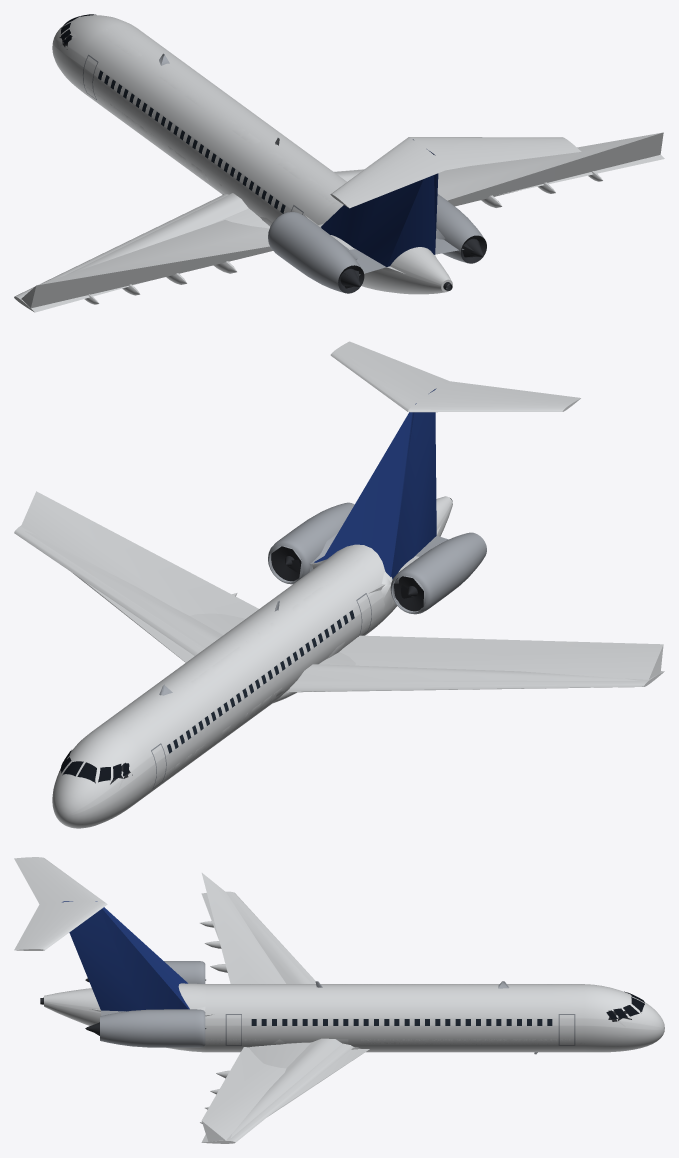
The model's file is lat_bizjet.dae.
The picture shows the model from 3 angles, top to bottom: view 1: azimuth 30°, elevation 25°; view 2: azimuth 150°, elevation 25°; view 3: azimuth 270°, elevation 25°; orthographic projection. The views are drawn at different scales.
Parts seen in each view (by area): view 1: lat_bizjet150, lat_bizjet1, lat_bizjet32; view 2: lat_bizjet150, lat_bizjet1, lat_bizjet32; view 3: lat_bizjet150, lat_bizjet1, lat_bizjet32.
Boxes of the visible parts, left/top/right/bottom form: lat_bizjet150: left=14, top=14, right=664, bottom=312; lat_bizjet1: left=21, top=132, right=663, bottom=308; lat_bizjet32: left=15, top=18, right=479, bottom=308; lat_bizjet150: left=14, top=341, right=664, bottom=828; lat_bizjet1: left=21, top=388, right=663, bottom=692; lat_bizjet32: left=25, top=531, right=663, bottom=805; lat_bizjet150: left=14, top=857, right=664, bottom=1143; lat_bizjet1: left=62, top=873, right=369, bottom=1141; lat_bizjet32: left=95, top=895, right=640, bottom=1143.
Size of the model in its own units: 19 by 20.97 by 5.43.
